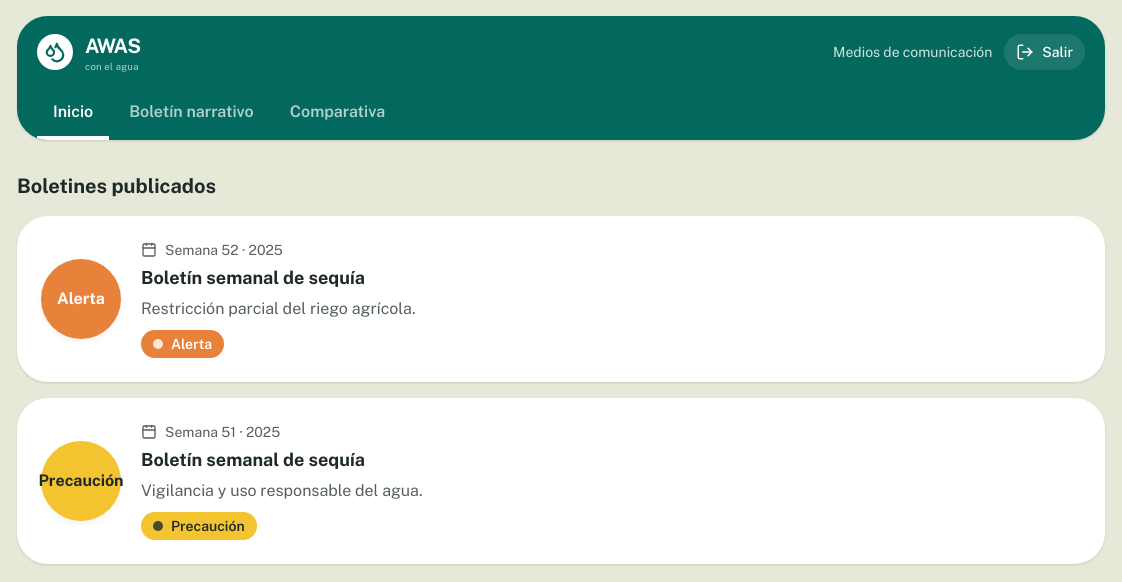
Test: MediosDashboard › Boletín narrativo: arma el texto a partir de markdown + recomendacion (ya no existe .narrativo)
The width and height of the screenshot is (1122, 582).
Expected: the text "Semana 52 · 2025" is shown, top-left (141, 242), bottom-right (283, 258)
Click the button "Boletín narrativo" at x=192, y=114, box top-left (113, 88), bottom-right (270, 140)
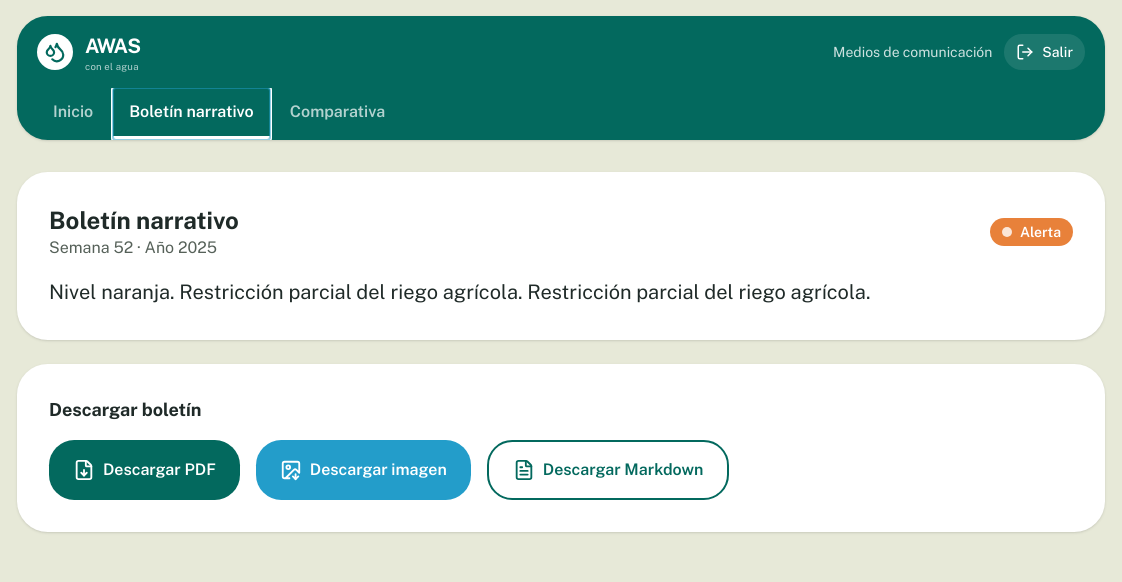
Expected: the text "Restricción parcial del riego agrícola" is shown, top-left (49, 280), bottom-right (870, 304)
